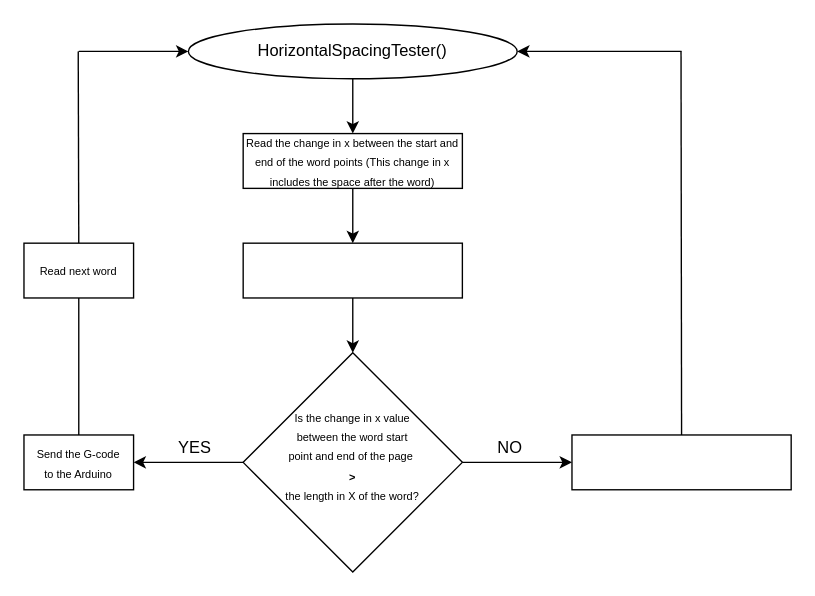
This 815x596 diagram has some shape labels left out. The box of each missing label's shape, as (x1, y1, x2, y2) in pixels:
Read the change in x between the start of the word and the end of the page: (242, 242, 462, 298)
Set the x coordinate = 0 and subtract off the spacing of a line off the y value: (571, 434, 791, 490)
